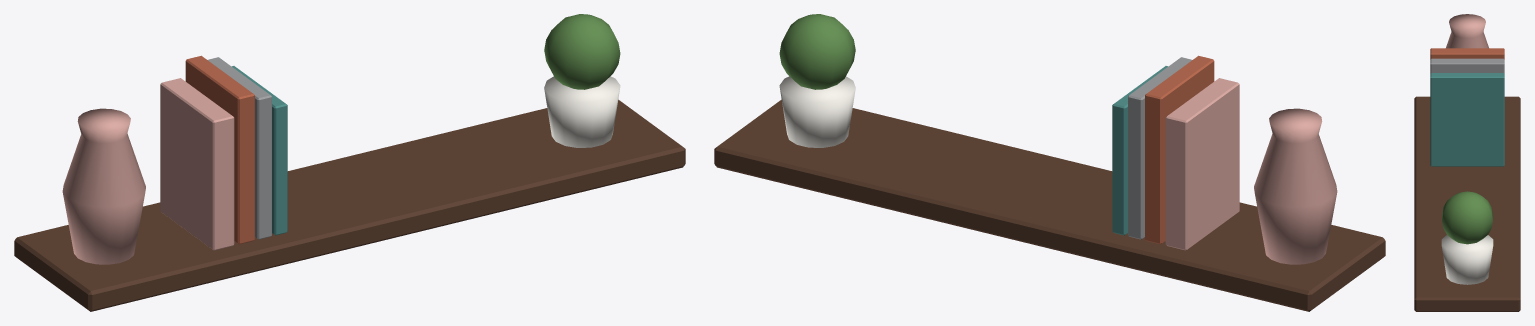
Rendered from i_wshelf_1.glb.
The picture shows the model from 3 angles, left to right: view 1: azimuth 30°, elevation 25°; view 2: azimuth 150°, elevation 25°; view 3: azimuth 270°, elevation 25°; orthographic projection. The views are drawn at different scales.
Visible parts, largest first — view 1: o, o.002, o.001, o.003, o.006, o.007, o.004, o.005; view 2: o, o.002, o.001, o.003, o.006, o.007, o.004, o.005; view 3: o, o.005, o.006, o.007, o.001, o.004, o.003.
Boxes of the visible parts, left/top/right/bottom form: o: left=14, top=99, right=685, bottom=311; o.002: left=160, top=78, right=234, bottom=250; o.001: left=62, top=108, right=145, bottom=264; o.003: left=185, top=55, right=254, bottom=244; o.006: left=544, top=14, right=620, bottom=89; o.007: left=544, top=76, right=620, bottom=147; o.004: left=208, top=57, right=271, bottom=239; o.005: left=232, top=66, right=287, bottom=235; o: left=714, top=99, right=1385, bottom=311; o.002: left=1165, top=78, right=1239, bottom=250; o.001: left=1254, top=108, right=1337, bottom=264; o.003: left=1145, top=55, right=1214, bottom=244; o.006: left=779, top=14, right=855, bottom=89; o.007: left=779, top=76, right=855, bottom=147; o.004: left=1128, top=57, right=1191, bottom=239; o.005: left=1112, top=66, right=1167, bottom=235; o: left=1414, top=96, right=1520, bottom=311; o.005: left=1430, top=73, right=1504, bottom=166; o.006: left=1442, top=191, right=1492, bottom=244; o.007: left=1441, top=235, right=1493, bottom=284; o.001: left=1446, top=14, right=1488, bottom=48; o.004: left=1430, top=58, right=1504, bottom=73; o.003: left=1430, top=48, right=1504, bottom=59.
Bounding box in the file's own units: 0.9 × 0.2417 × 0.2.
